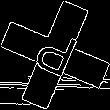P_SW: (28, 25, 82, 85)
